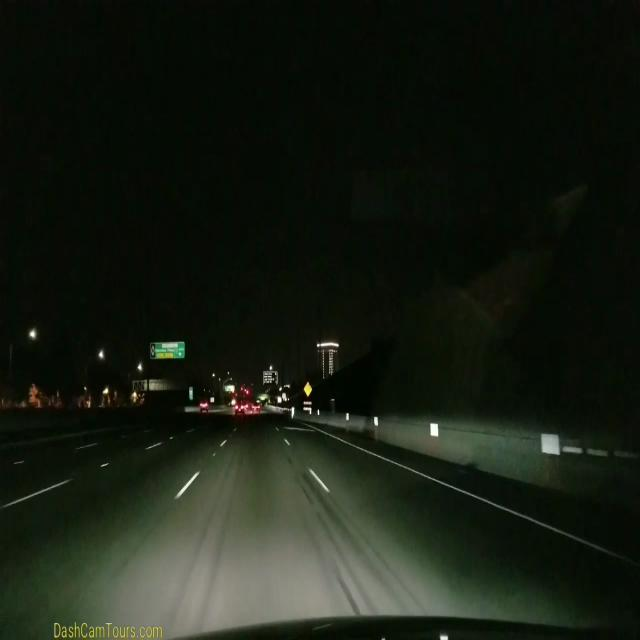street-signs: (154, 341, 186, 359)
